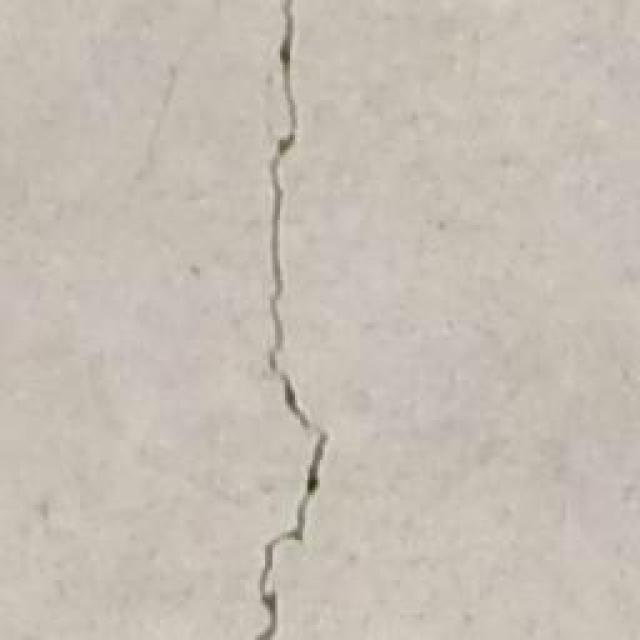concrete-crack: (250, 0, 330, 640)
